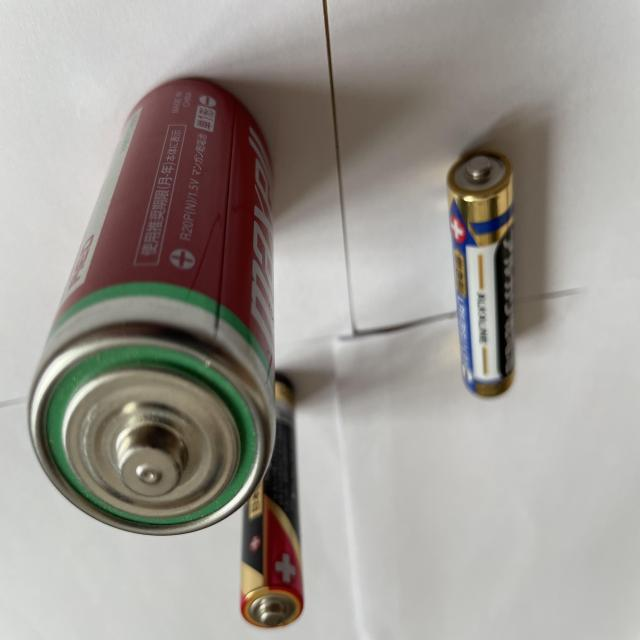AA: (448, 155, 515, 400)
